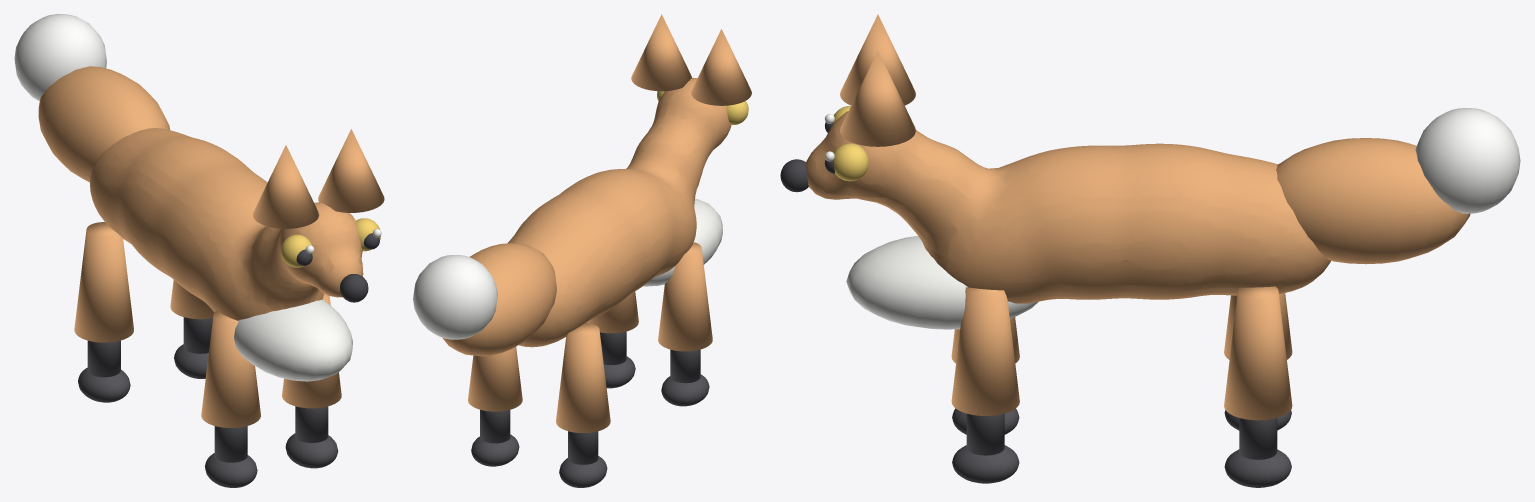
The model's file is Fox.fbx.
The picture shows the model from 3 angles, left to right: view 1: azimuth 30°, elevation 25°; view 2: azimuth 150°, elevation 25°; view 3: azimuth 270°, elevation 25°; orthographic projection. The views are drawn at different scales.
Visible parts, largest first — view 1: Fox; view 2: Fox; view 3: Fox.
Boxes of the visible parts, <box> form: Fox: <box>14,14,384,487</box>; Fox: <box>413,14,751,487</box>; Fox: <box>780,14,1520,487</box>.
Size of the model in its own units: 154 by 370 by 584.
